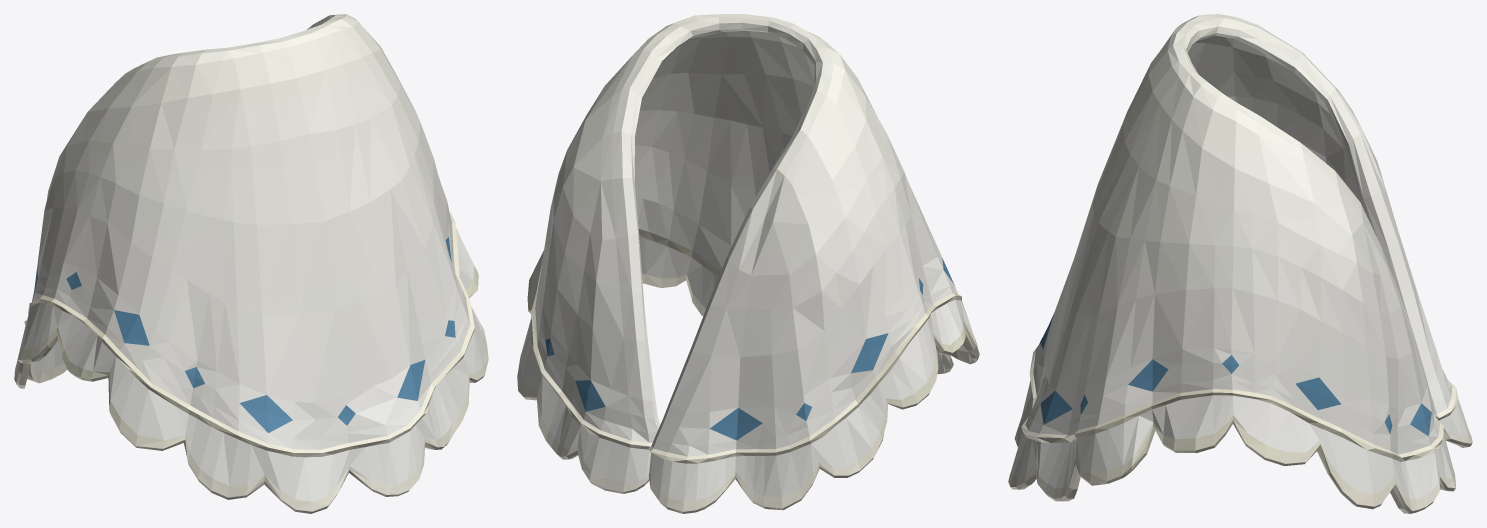
File: CharSkyKid_Wing_AP31SheerShawl.glb
3 views of the same model, side by side, from view 1: azimuth 30°, elevation 25°; view 2: azimuth 150°, elevation 25°; view 3: azimuth 270°, elevation 25° (orthographic). The views are drawn at different scales.
Parts seen in each view (by area): view 1: CharSkyKid_Wing_AP31SheerShawl; view 2: CharSkyKid_Wing_AP31SheerShawl; view 3: CharSkyKid_Wing_AP31SheerShawl.
Part boxes in pixels (left/top/right/bottom): CharSkyKid_Wing_AP31SheerShawl: left=14, top=14, right=488, bottom=513; CharSkyKid_Wing_AP31SheerShawl: left=517, top=14, right=979, bottom=513; CharSkyKid_Wing_AP31SheerShawl: left=1008, top=14, right=1472, bottom=513.
Bounding box in the file's own units: 5.01 × 4.58 × 4.56.
Materials: 1 (1 with a texture image).
